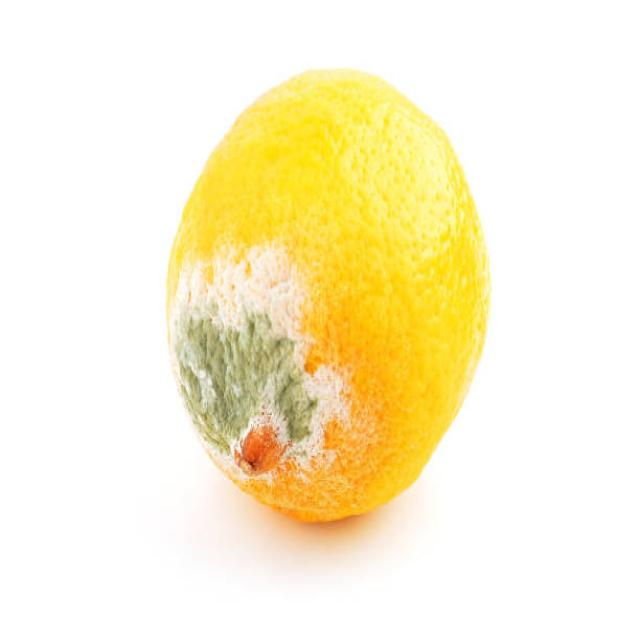Rotten: (164, 64, 492, 524)
